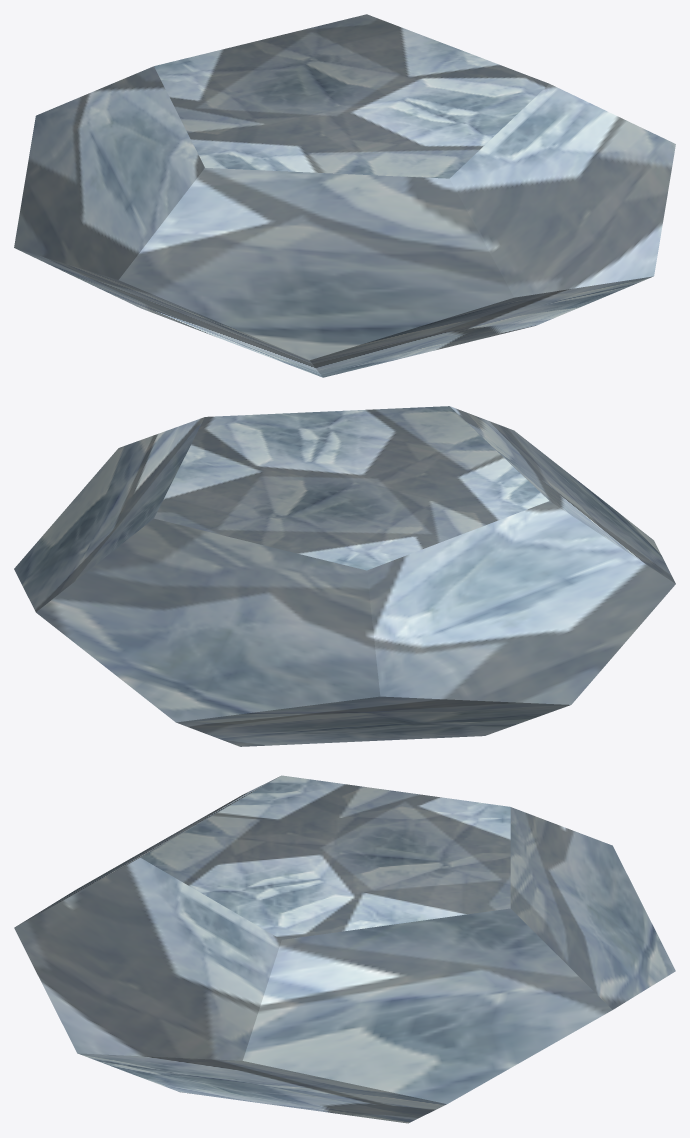
File: p2_diamond3a.fbx
3 renders of one model, top to bottom at view 1: azimuth 30°, elevation 25°; view 2: azimuth 150°, elevation 25°; view 3: azimuth 270°, elevation 25°, orthographic. The views are drawn at different scales.
Parts seen in each view (by area): view 1: dodecahedron; view 2: dodecahedron; view 3: dodecahedron.
Part boxes in pixels (x1,y1,x2,y2): dodecahedron: [14, 14, 675, 377]; dodecahedron: [14, 406, 675, 746]; dodecahedron: [14, 775, 675, 1123].
Bounding box in the file's own units: 198 × 63.79 × 208.
